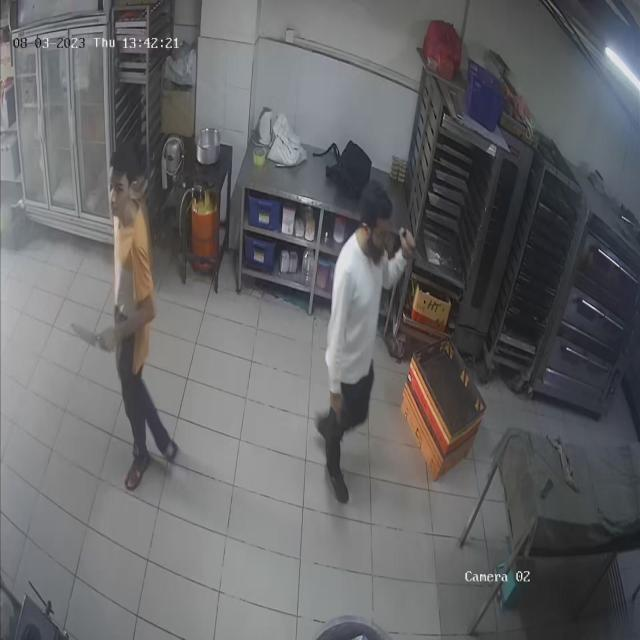Knife: (60, 312, 120, 356)
